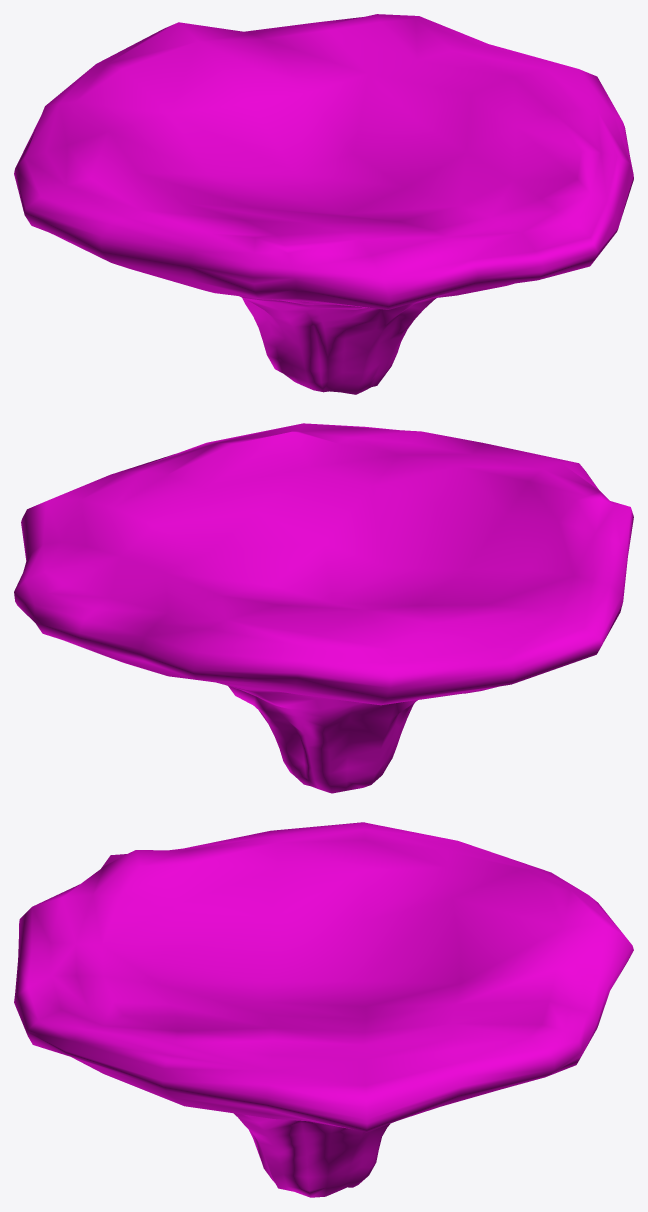
Rendered from Table_Coral.fbx.
3 renders of one model, top to bottom at view 1: azimuth 30°, elevation 25°; view 2: azimuth 150°, elevation 25°; view 3: azimuth 270°, elevation 25°, orthographic.
Parts seen in each view (by area): view 1: Table coral; view 2: Table coral; view 3: Table coral.
Boxes of the visible parts, x1,y1,x2,y2 form: Table coral: (14,14,633,394); Table coral: (14,423,633,793); Table coral: (14,822,633,1197).
Bounding box in the file's own units: 0.9299 × 0.3888 × 0.8719.
